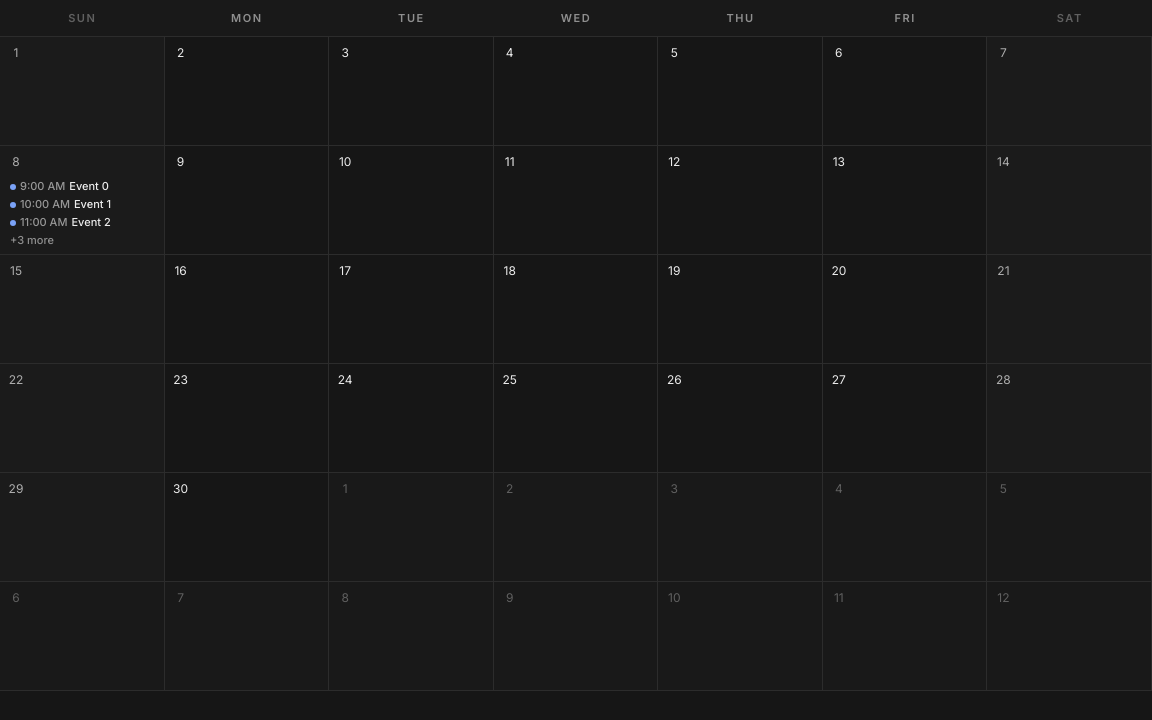
Scenario: month grid day card › lists every event of the day when one is hovered, and edits the one clicked
Hover over the button "Event 0" at (59, 186), box [10, 179, 109, 193]
Wait 400 ms
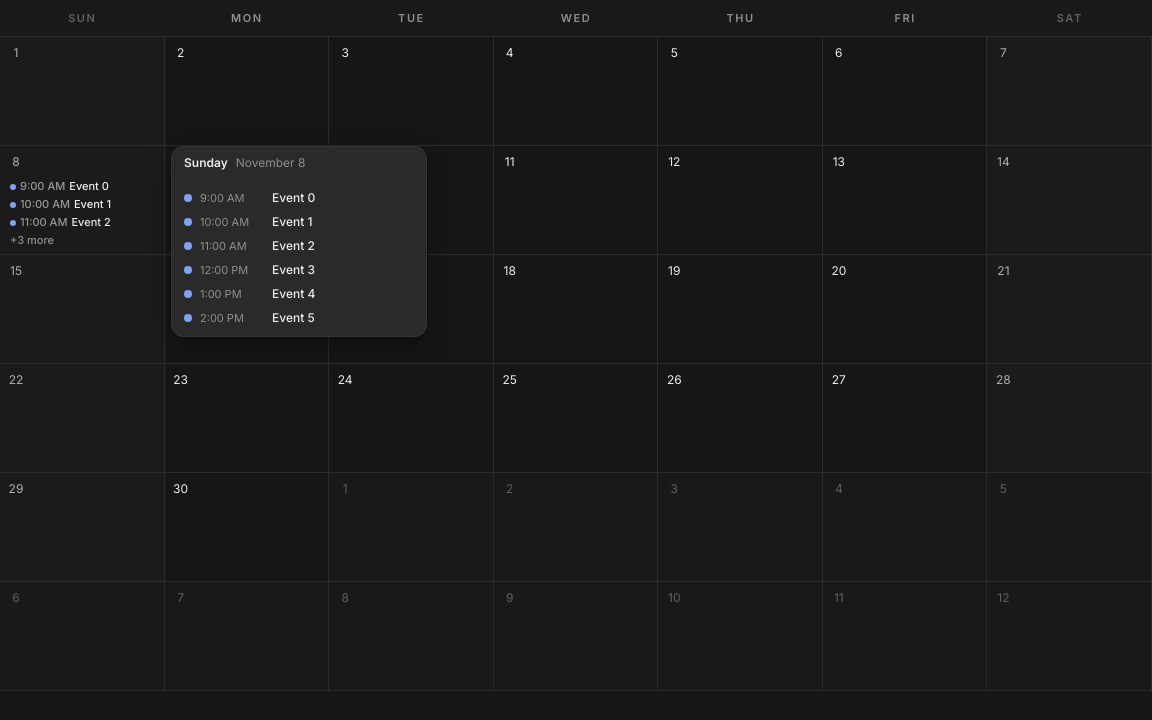
Click the text "Event 5" at (293, 318), box [272, 310, 314, 325]
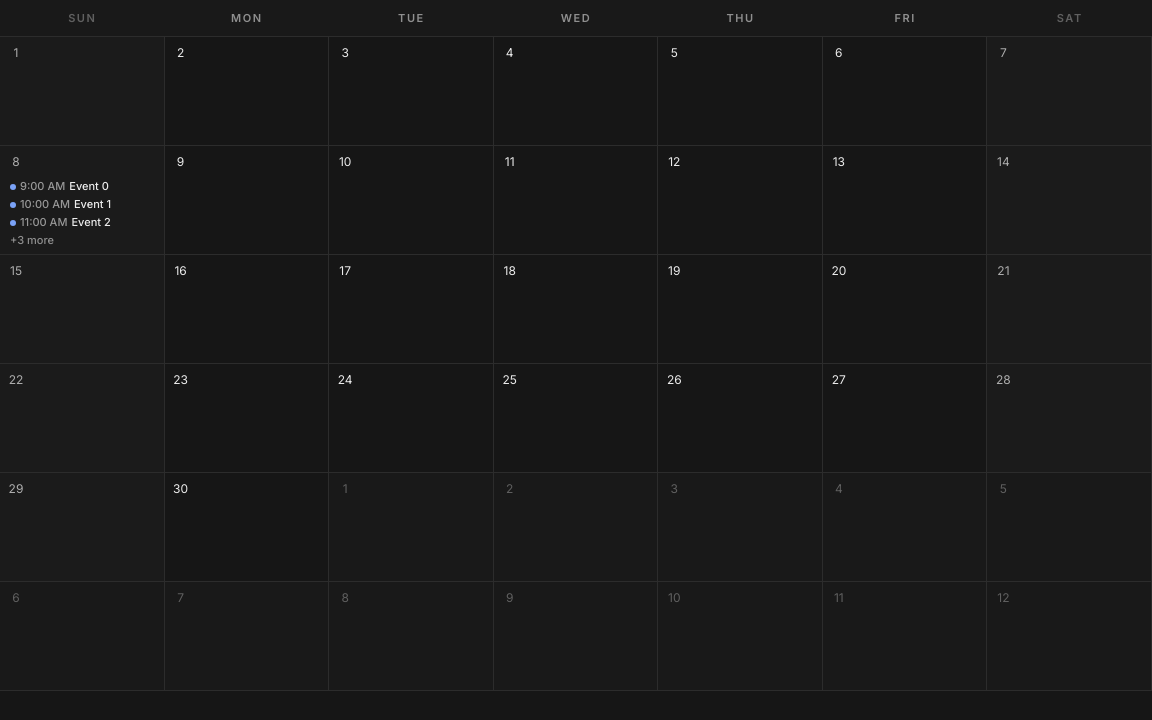
expect the dialog is gone: met
